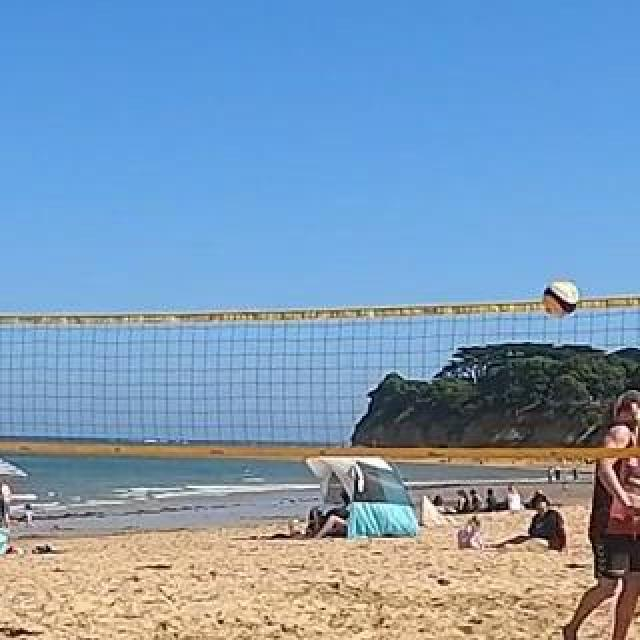volleyball: (544, 283, 576, 315)
